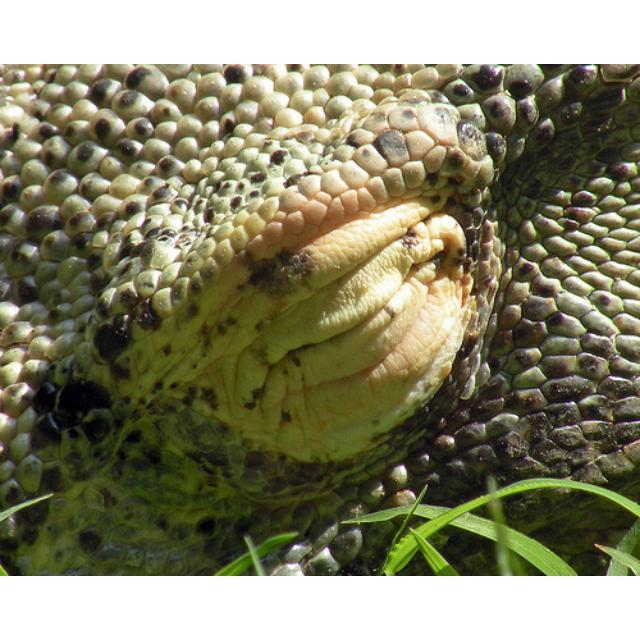KomodoDragon: (1, 65, 638, 574)
